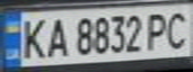2: (124, 11, 145, 53)
3: (109, 11, 130, 54)
8: (90, 12, 112, 55), (72, 14, 93, 56)
A: (42, 15, 69, 60)
C: (163, 8, 193, 50)
K: (15, 15, 51, 61)
P: (142, 9, 172, 52)
